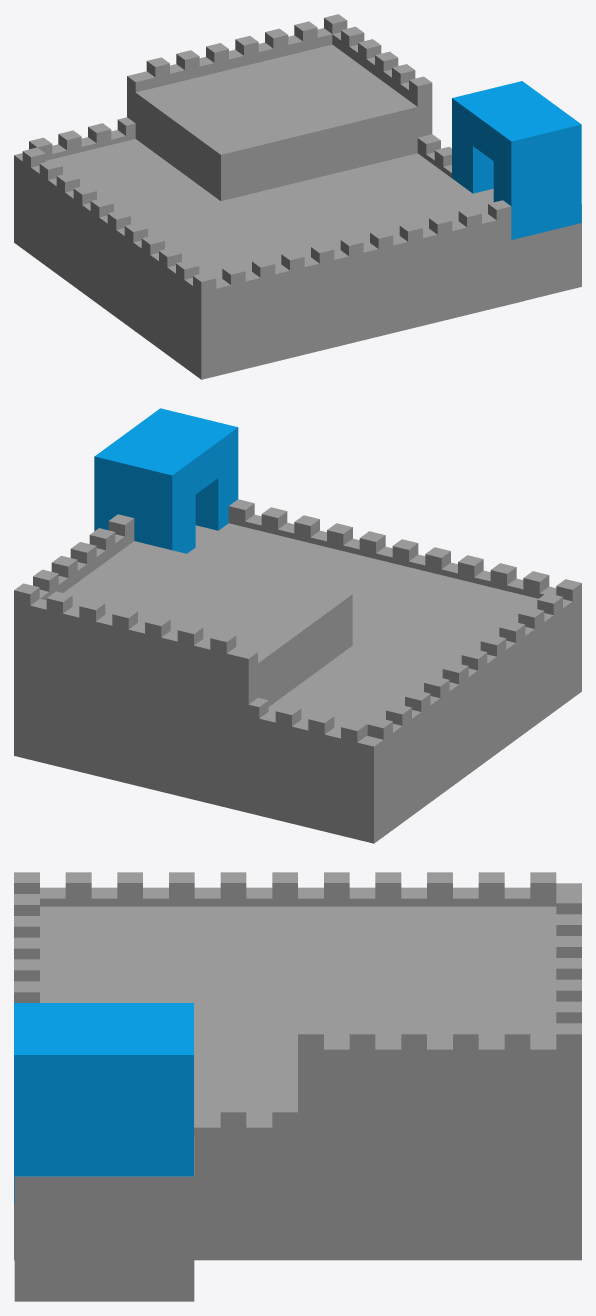
Rendered from TutorialStage_Ground4.fbx.
3 views of the same model, one above another, from view 1: azimuth 30°, elevation 25°; view 2: azimuth 150°, elevation 25°; view 3: azimuth 270°, elevation 25° (orthographic). The views are drawn at different scales.
Parts seen in each view (by area): view 1: pCube54, pCube2, pCube52, Wall3; view 2: pCube54, pCube2, pCube52, Wall3; view 3: pCube54, pCube2, pCube52, Wall3.
Boxes of the visible parts, x1,y1,x2,y2 form: pCube54: (14, 139, 581, 379); pCube2: (127, 44, 432, 200); pCube52: (14, 14, 511, 302); Wall3: (452, 81, 581, 239); pCube54: (14, 523, 581, 843); pCube2: (14, 541, 352, 732); pCube52: (14, 499, 581, 757); Wall3: (94, 408, 238, 553); pCube54: (14, 906, 581, 1301); pCube2: (298, 909, 581, 1151); pCube52: (14, 872, 581, 1143); Wall3: (14, 1003, 193, 1204).
Bounding box in the file's own units: 3869 × 1580 × 3301.
